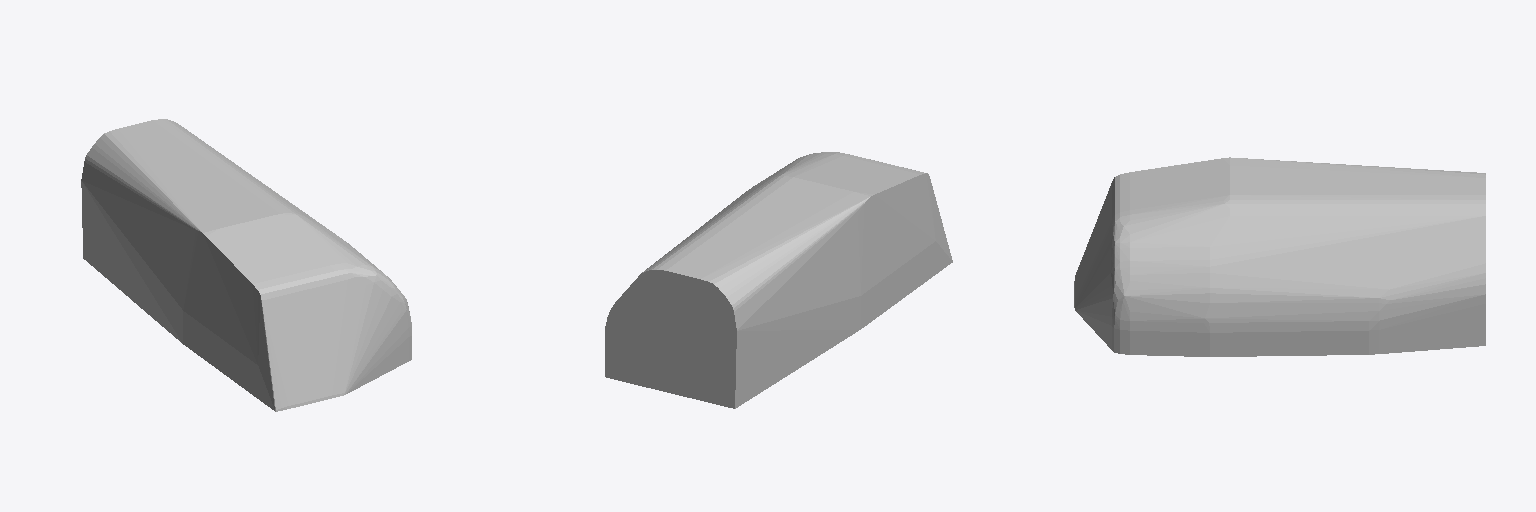
The model's file is Toaster_24_collision_0.obj.
3 views of the same model, side by side, from view 1: azimuth 30°, elevation 25°; view 2: azimuth 150°, elevation 25°; view 3: azimuth 270°, elevation 25° (orthographic).
Size of the model in its own units: 0.069 by 0.0484 by 0.1485.